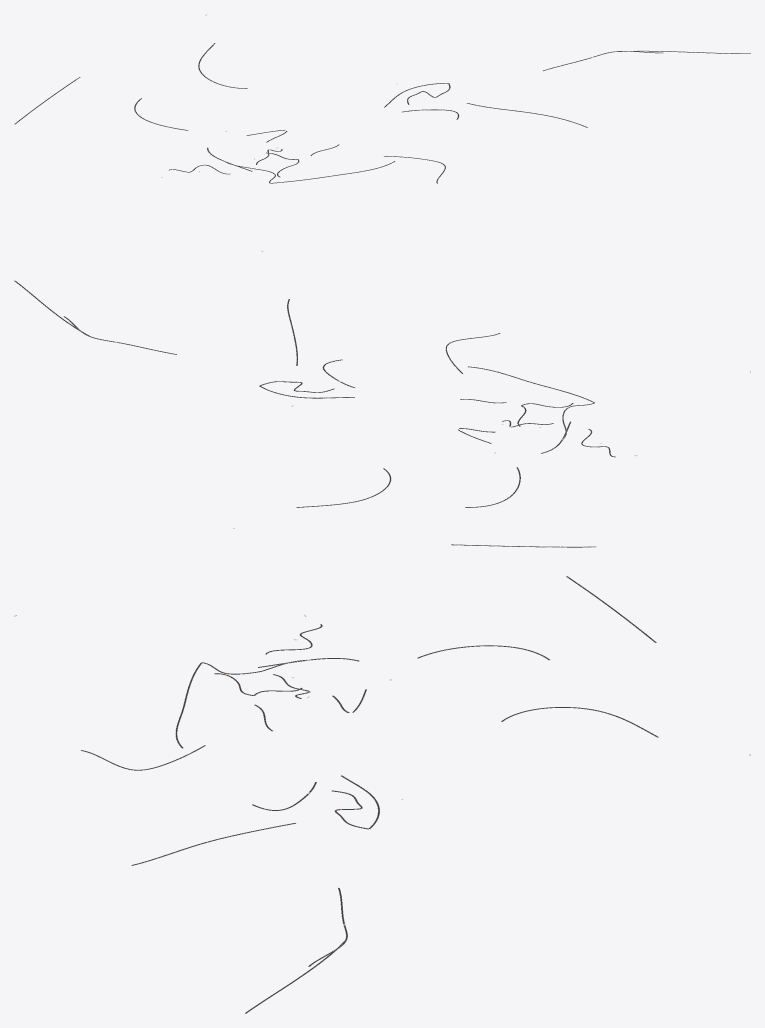
The model's file is dalat_secondary_streets_and_civil_bridges_w4.glb.
3 renders of one model, top to bottom at view 1: azimuth 30°, elevation 25°; view 2: azimuth 150°, elevation 25°; view 3: azimuth 270°, elevation 25°, orthographic. The views are drawn at different scales.
Bounding box in the file's own units: 8578 × 103 × 6098.
